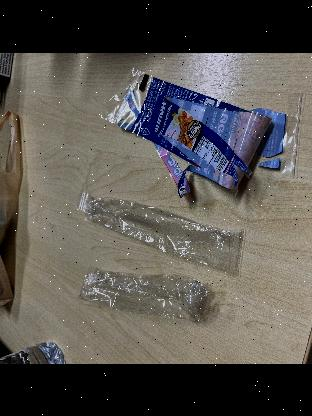Others: (94, 59, 312, 197), (66, 183, 252, 271), (70, 262, 214, 324)
